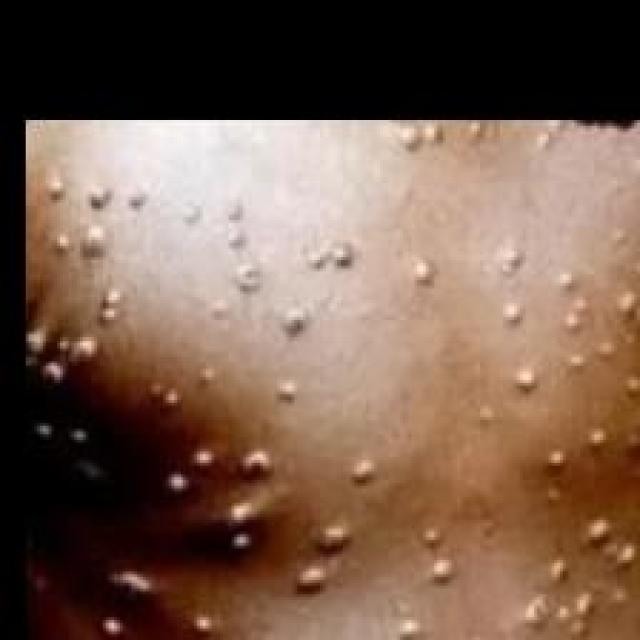monkeypox: (24, 128, 640, 640)
